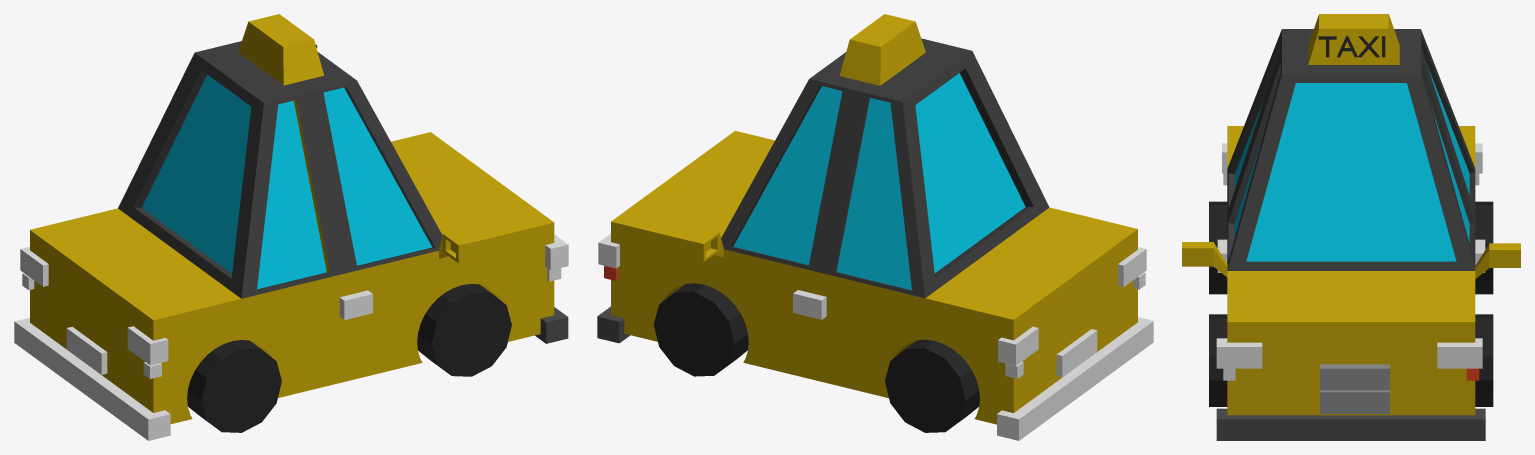
Rendered from Taxi.fbx.
The picture shows the model from 3 angles, left to right: view 1: azimuth 30°, elevation 25°; view 2: azimuth 150°, elevation 25°; view 3: azimuth 270°, elevation 25°; orthographic projection.
Parts seen in each view (by area): view 1: Cube.190, Cylinder.025, Cylinder.026, Cube.181, Cube.170, Cube.179, Cube.182, Cube.175, Cube.177, Cube.187, Cube.180, Cube.189; view 2: Cube.190, Cylinder.016, Cylinder.024, Cube.181, Cube.170, Cube.179, Cube.180, Cube.176, Cube.178, Cube.187, Cube.182, Cube.185; view 3: Cube.190, Cube.187, Cube.170, Cube.183, Cube.184, Cylinder.024, Cylinder.026, Cube.189, Cube.185, Cylinder.025, Cylinder.016, Cube.176 (+2 smaller).
Part boxes in pixels (x1,y1,x2,y2): Cube.190: (30, 41, 554, 423); Cylinder.025: (187, 340, 281, 432); Cylinder.026: (417, 284, 511, 376); Cube.181: (14, 317, 170, 440); Cube.170: (238, 14, 324, 85); Cube.179: (66, 326, 107, 374); Cube.182: (127, 326, 168, 365); Cube.175: (439, 231, 471, 263); Cube.177: (339, 290, 372, 319); Cube.187: (535, 307, 568, 343); Cube.180: (20, 246, 48, 286); Cube.189: (545, 234, 568, 270); Cube.190: (611, 38, 1137, 424); Cylinder.016: (885, 339, 979, 432); Cylinder.024: (653, 283, 748, 376); Cube.181: (997, 317, 1153, 440); Cube.170: (839, 14, 925, 85); Cube.179: (1056, 329, 1097, 377); Cube.180: (998, 326, 1038, 365); Cube.176: (690, 229, 723, 262); Cube.178: (793, 290, 826, 319); Cube.187: (597, 306, 630, 343); Cube.182: (1118, 247, 1146, 286); Cube.185: (598, 233, 619, 268); Cube.190: (1227, 29, 1475, 415); Cube.187: (1216, 408, 1485, 440); Cube.170: (1308, 14, 1399, 64); Cube.183: (1320, 364, 1389, 390); Cube.184: (1320, 390, 1389, 413); Cylinder.024: (1475, 314, 1493, 406); Cylinder.026: (1209, 314, 1227, 406); Cube.189: (1216, 338, 1262, 368); Cube.185: (1437, 338, 1482, 368); Cylinder.025: (1209, 201, 1227, 294); Cylinder.016: (1475, 201, 1493, 294); Cube.176: (1475, 243, 1520, 278).
Size of the model in its own units: 584 by 428 by 406.
